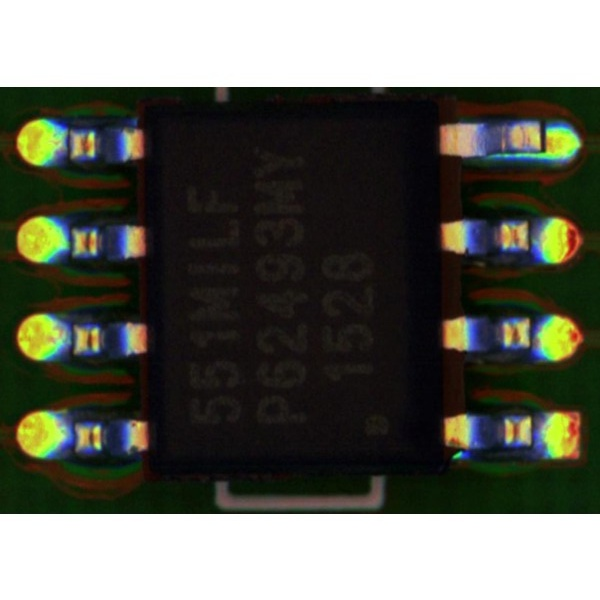Bad_podu: (533, 125, 555, 152)
Bad_qiaojiao: (483, 151, 540, 158)
